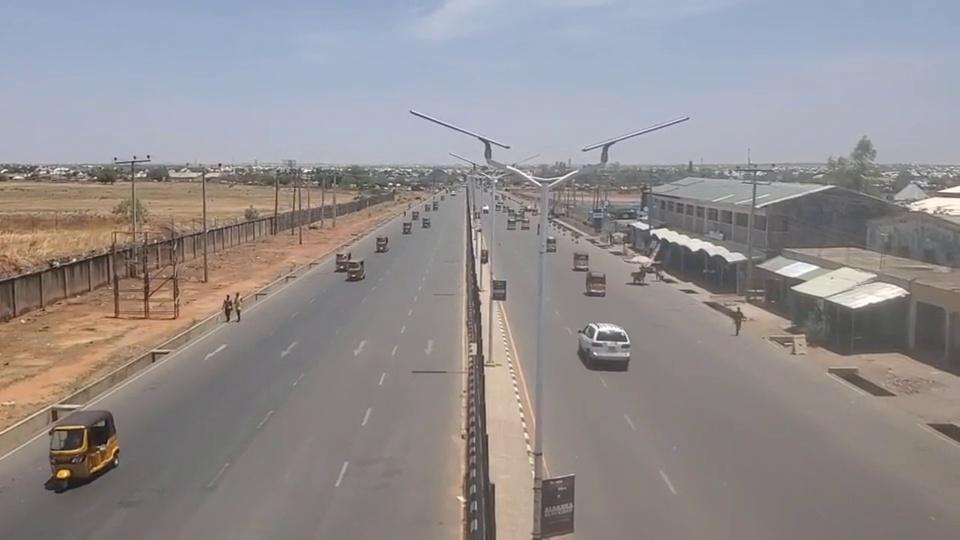car: (576, 321, 634, 371)
keke: (50, 408, 120, 490), (588, 271, 608, 297), (346, 260, 366, 280), (336, 252, 354, 272), (574, 250, 588, 272), (546, 234, 560, 255), (376, 238, 390, 255)
